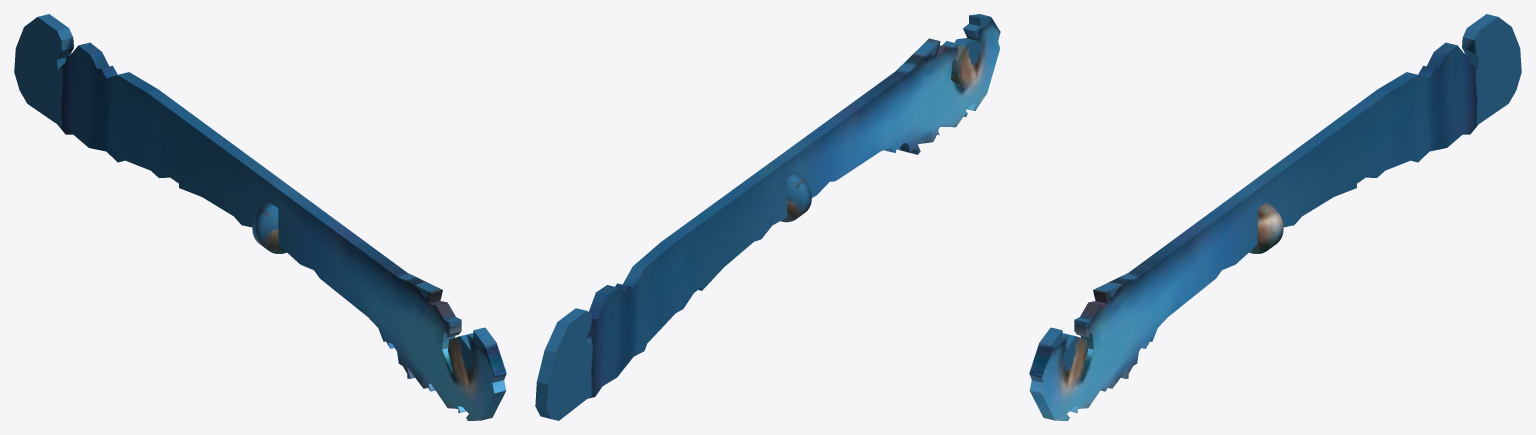
Rendered from elastic-ball-textures.glb.
The picture shows the model from 3 angles, left to right: view 1: azimuth 30°, elevation 25°; view 2: azimuth 150°, elevation 25°; view 3: azimuth 330°, elevation 25°; orthographic projection. The views are drawn at different scales.
Parts seen in each view (by area): view 1: blue_arm, gold_shaft_cap; view 2: blue_arm, gold_shaft_cap; view 3: blue_arm, gold_shaft_cap.
Boxes of the visible parts, <box> form: blue_arm: <box>14,14,506,420</box>; gold_shaft_cap: <box>252,202,286,253</box>; blue_arm: <box>535,14,1000,420</box>; gold_shaft_cap: <box>780,173,811,222</box>; blue_arm: <box>1029,14,1521,420</box>; gold_shaft_cap: <box>1249,202,1283,253</box>.
Bounding box in the file's own units: 0.0114 × 0.0262 × 0.2093.
Materials: 3 (3 with a texture image).
